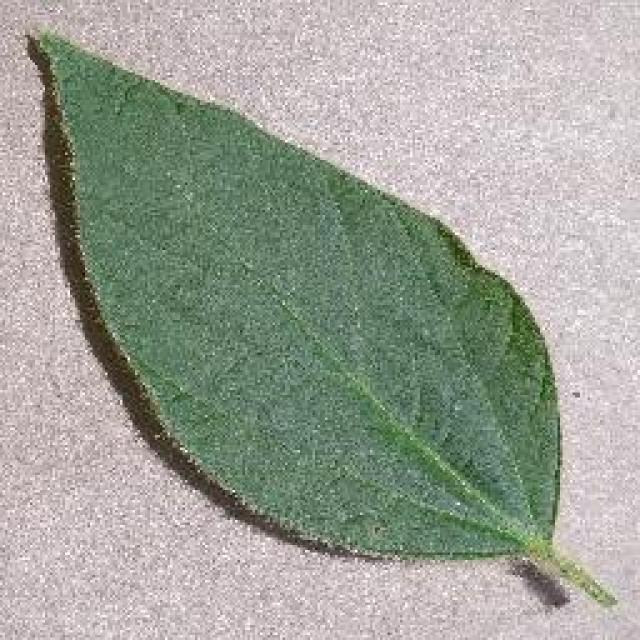healthy: (42, 35, 596, 591)
